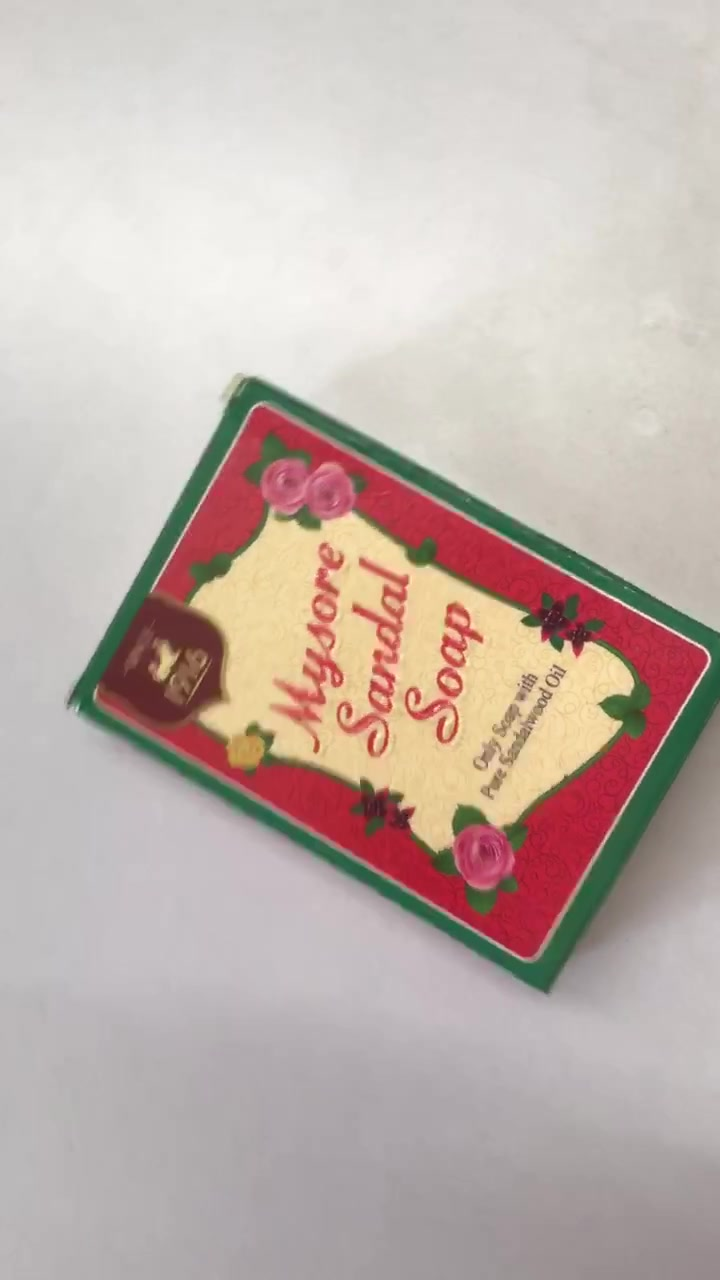mysore sandal soap: (64, 377, 720, 999)
